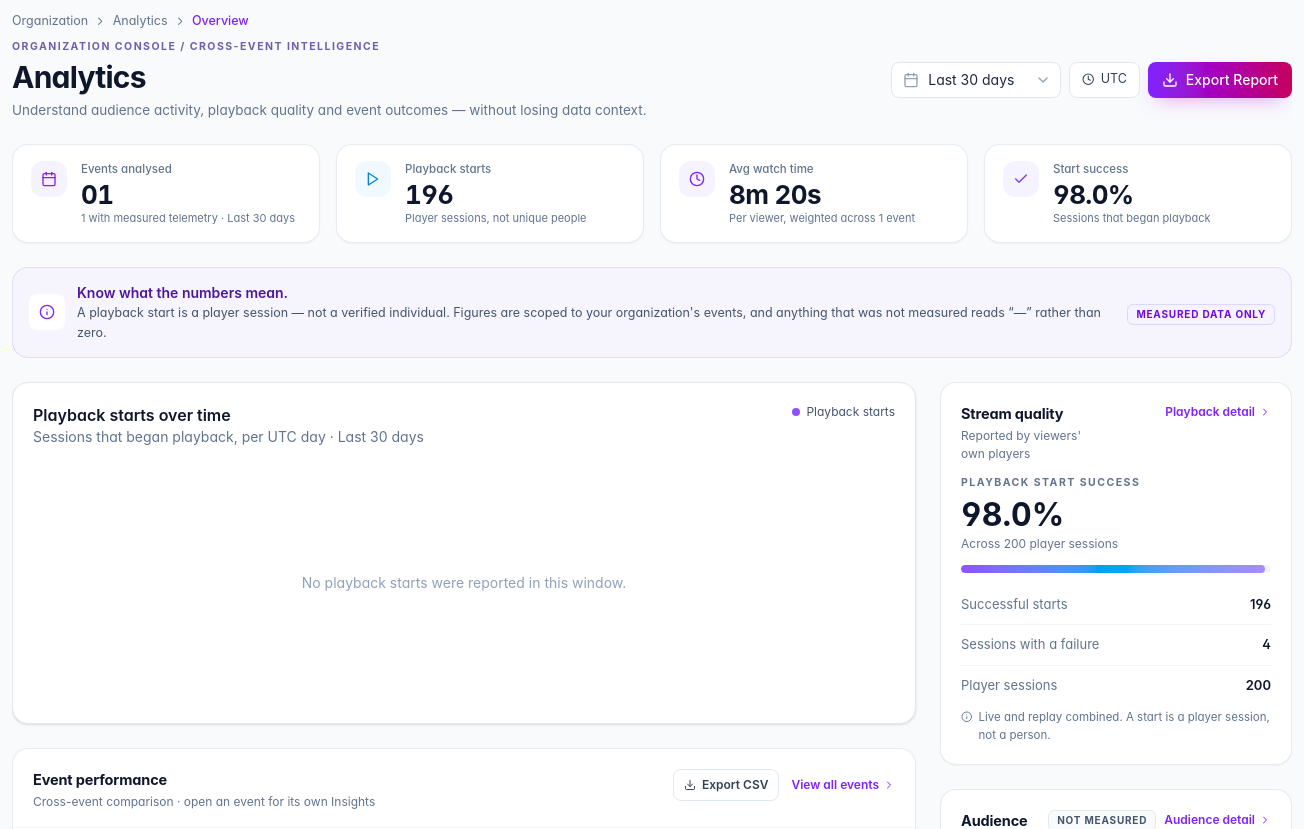
Test: the headline row › shows no player figures for a range the reports do not cover
Select "Last 12 months" in the dropdown named "Date range": (976, 80) left=891, top=62, right=1061, bottom=98
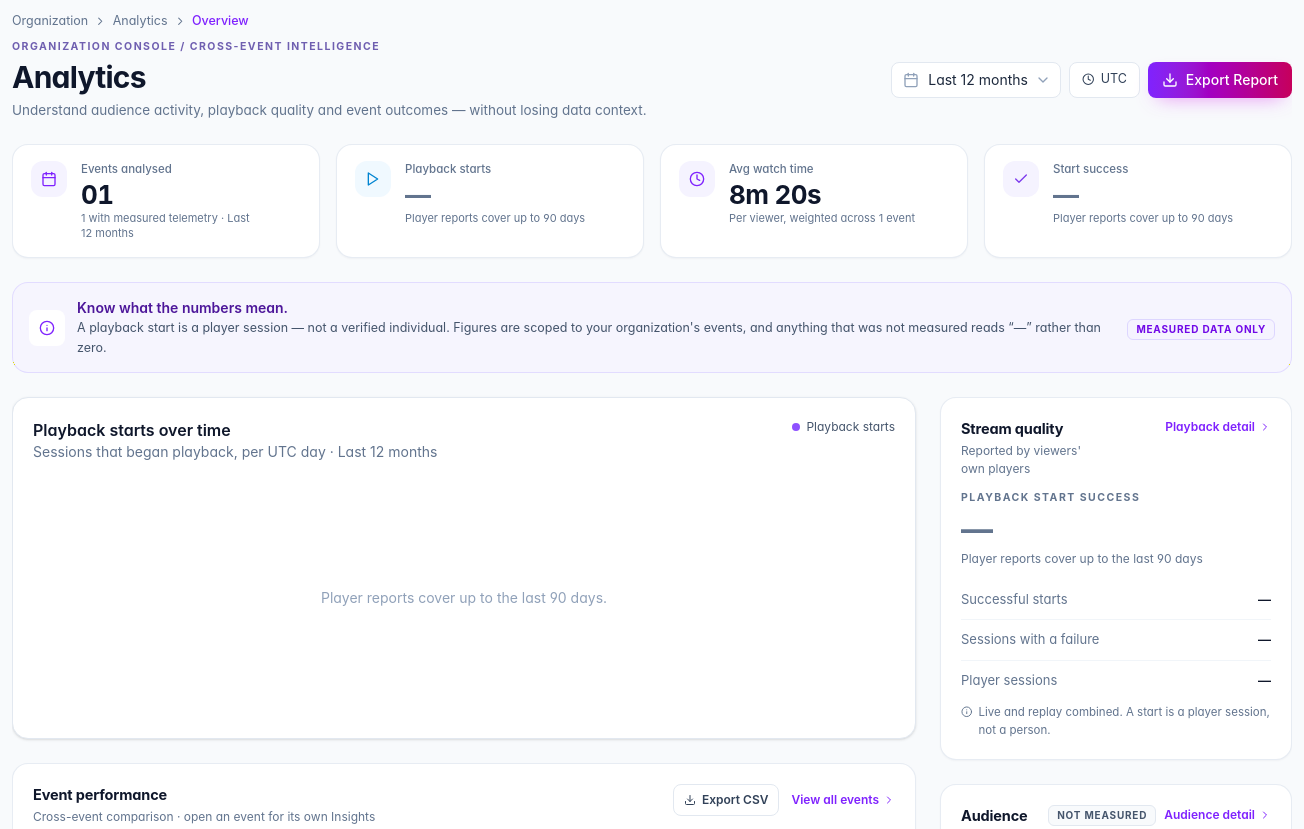
Expected: the text "Player reports cover up to 90 days" is shown once, left=405, top=210, right=585, bottom=226
Result: the 2nd text "—" is shown at left=1053, top=178, right=1078, bottom=210
